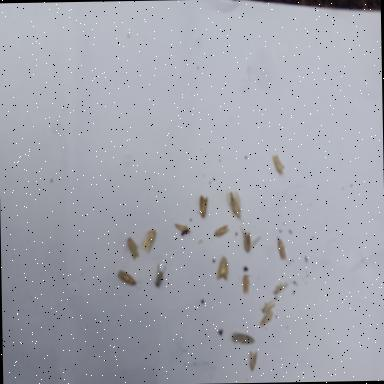pbw: (117, 270, 139, 288), (228, 191, 242, 219), (240, 225, 252, 252), (127, 237, 141, 260), (144, 228, 157, 252), (232, 332, 255, 344), (217, 256, 228, 280), (278, 238, 288, 262), (259, 310, 273, 326), (273, 154, 283, 174), (200, 195, 208, 218), (214, 225, 230, 236), (249, 351, 258, 370), (262, 300, 276, 312), (243, 275, 250, 293)
